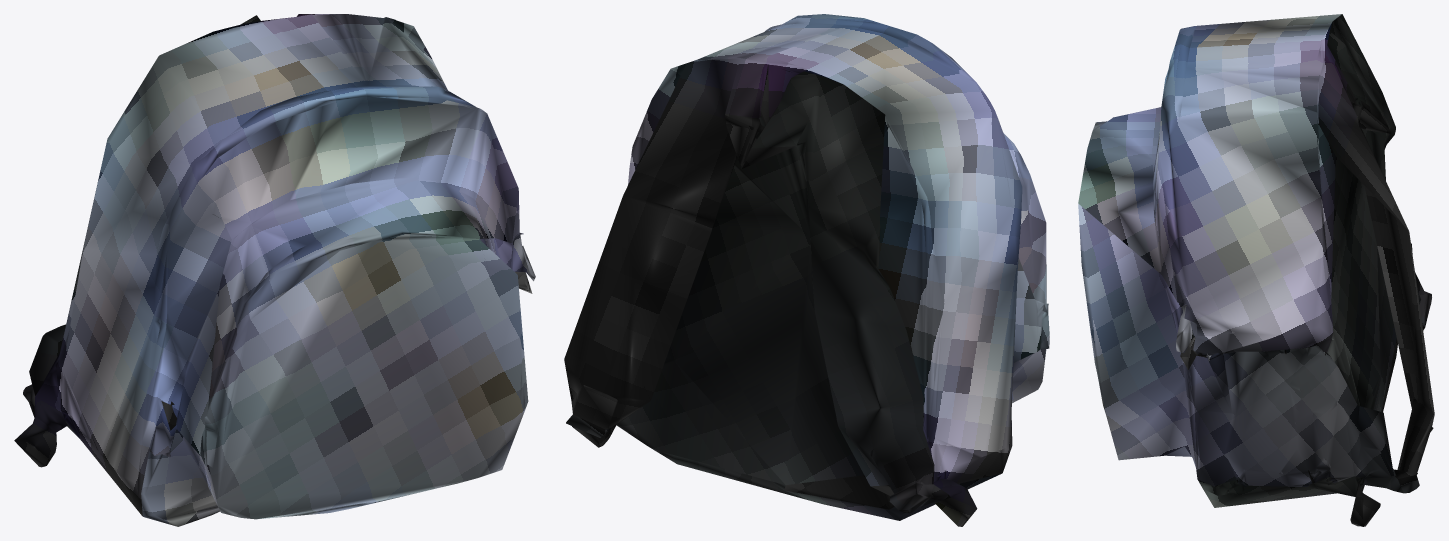
Rendered from Olive_Kids_Game_On_Pack_n_Snack-low.glb.
The picture shows the model from 3 angles, left to right: view 1: azimuth 30°, elevation 25°; view 2: azimuth 150°, elevation 25°; view 3: azimuth 270°, elevation 25°; orthographic projection. The views are drawn at different scales.
Parts seen in each view (by area): view 1: Olive_Kids_Game_On_Pack_n_Snack; view 2: Olive_Kids_Game_On_Pack_n_Snack; view 3: Olive_Kids_Game_On_Pack_n_Snack.
Boxes of the visible parts, x1=… form: Olive_Kids_Game_On_Pack_n_Snack: x1=14, y1=14, x2=535, y2=526; Olive_Kids_Game_On_Pack_n_Snack: x1=564, y1=14, x2=1049, y2=526; Olive_Kids_Game_On_Pack_n_Snack: x1=1078, y1=14, x2=1434, y2=526.
Bounding box in the file's own units: 0.3284 × 0.3094 × 0.2494.
1 material, 1 textured.
